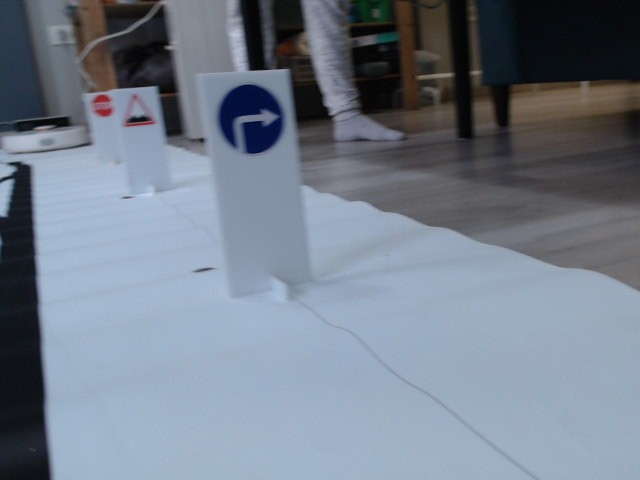Nerov: (120, 93, 157, 127)
Right: (217, 82, 285, 154)
